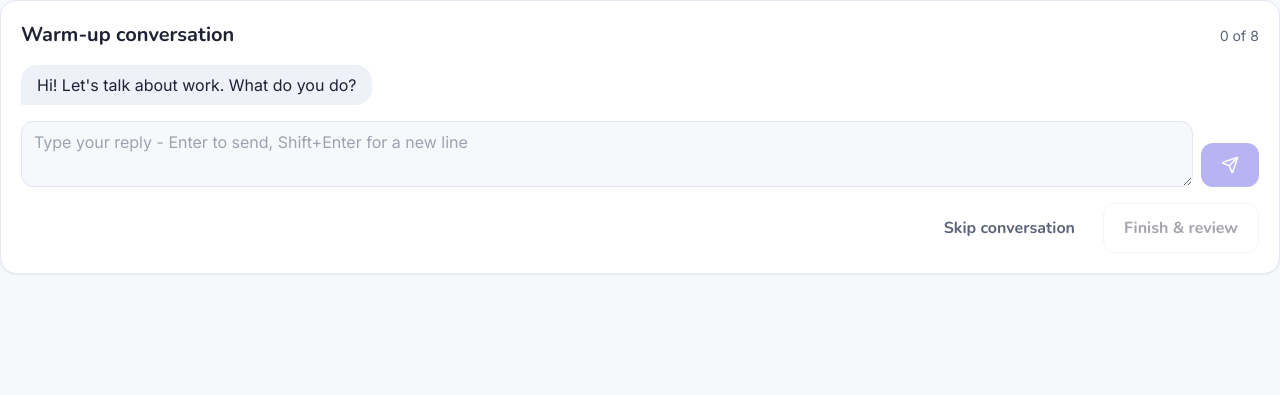
ConversationPanel › keeps the transcript scrolled to the newest message
Step 1. Type "New message" into the text box named "Your message" → (607, 154), box [21,121,1193,187]
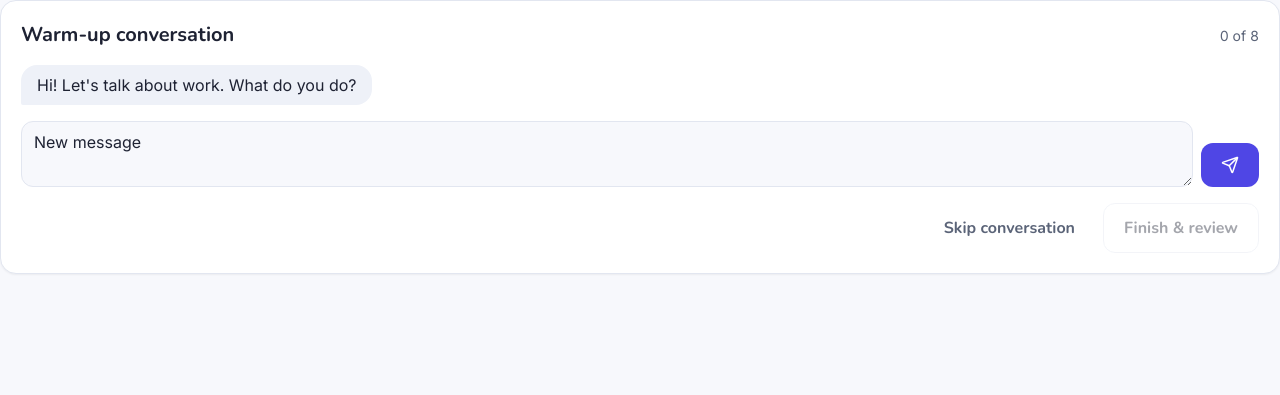
Step 2. Press Enter in the text box named "Your message", box [21,121,1193,187]
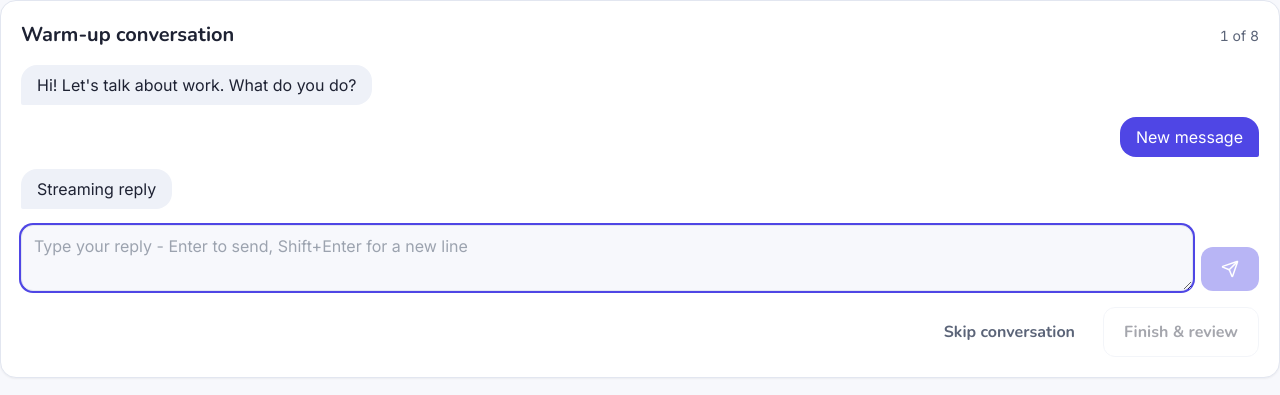
Expected: the text box named "Your message" is enabled, [21,225,1193,291]
Expected: the text "Streaming reply" is shown, [21,169,172,209]
